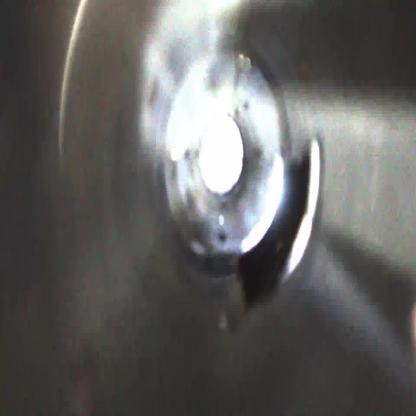Crack2: (234, 138, 320, 308)
